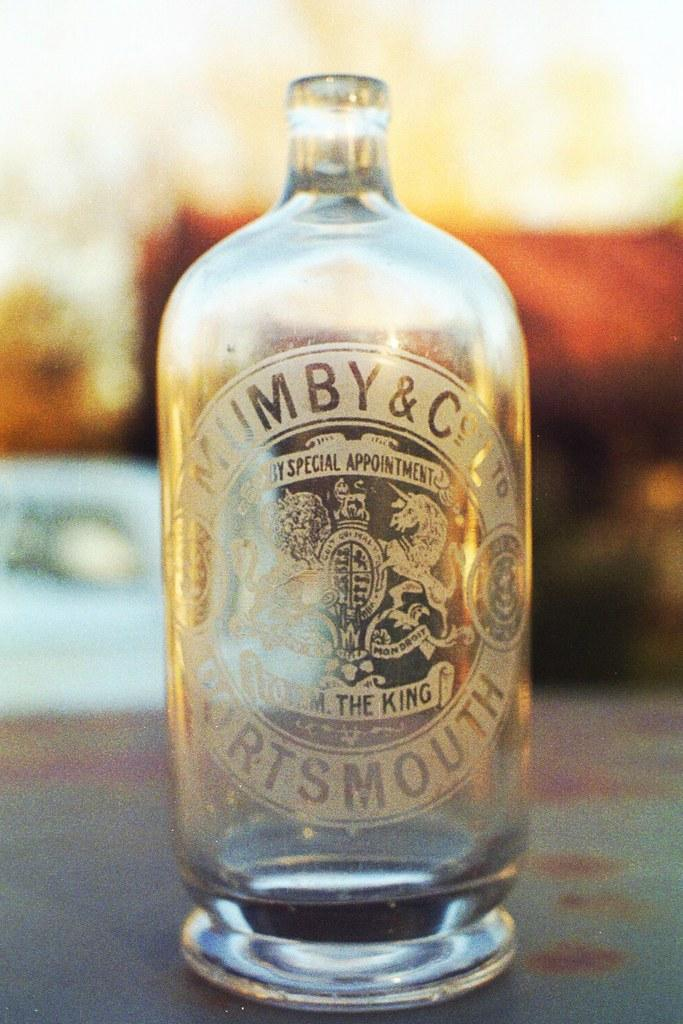bottle: (156, 73, 535, 1012)
